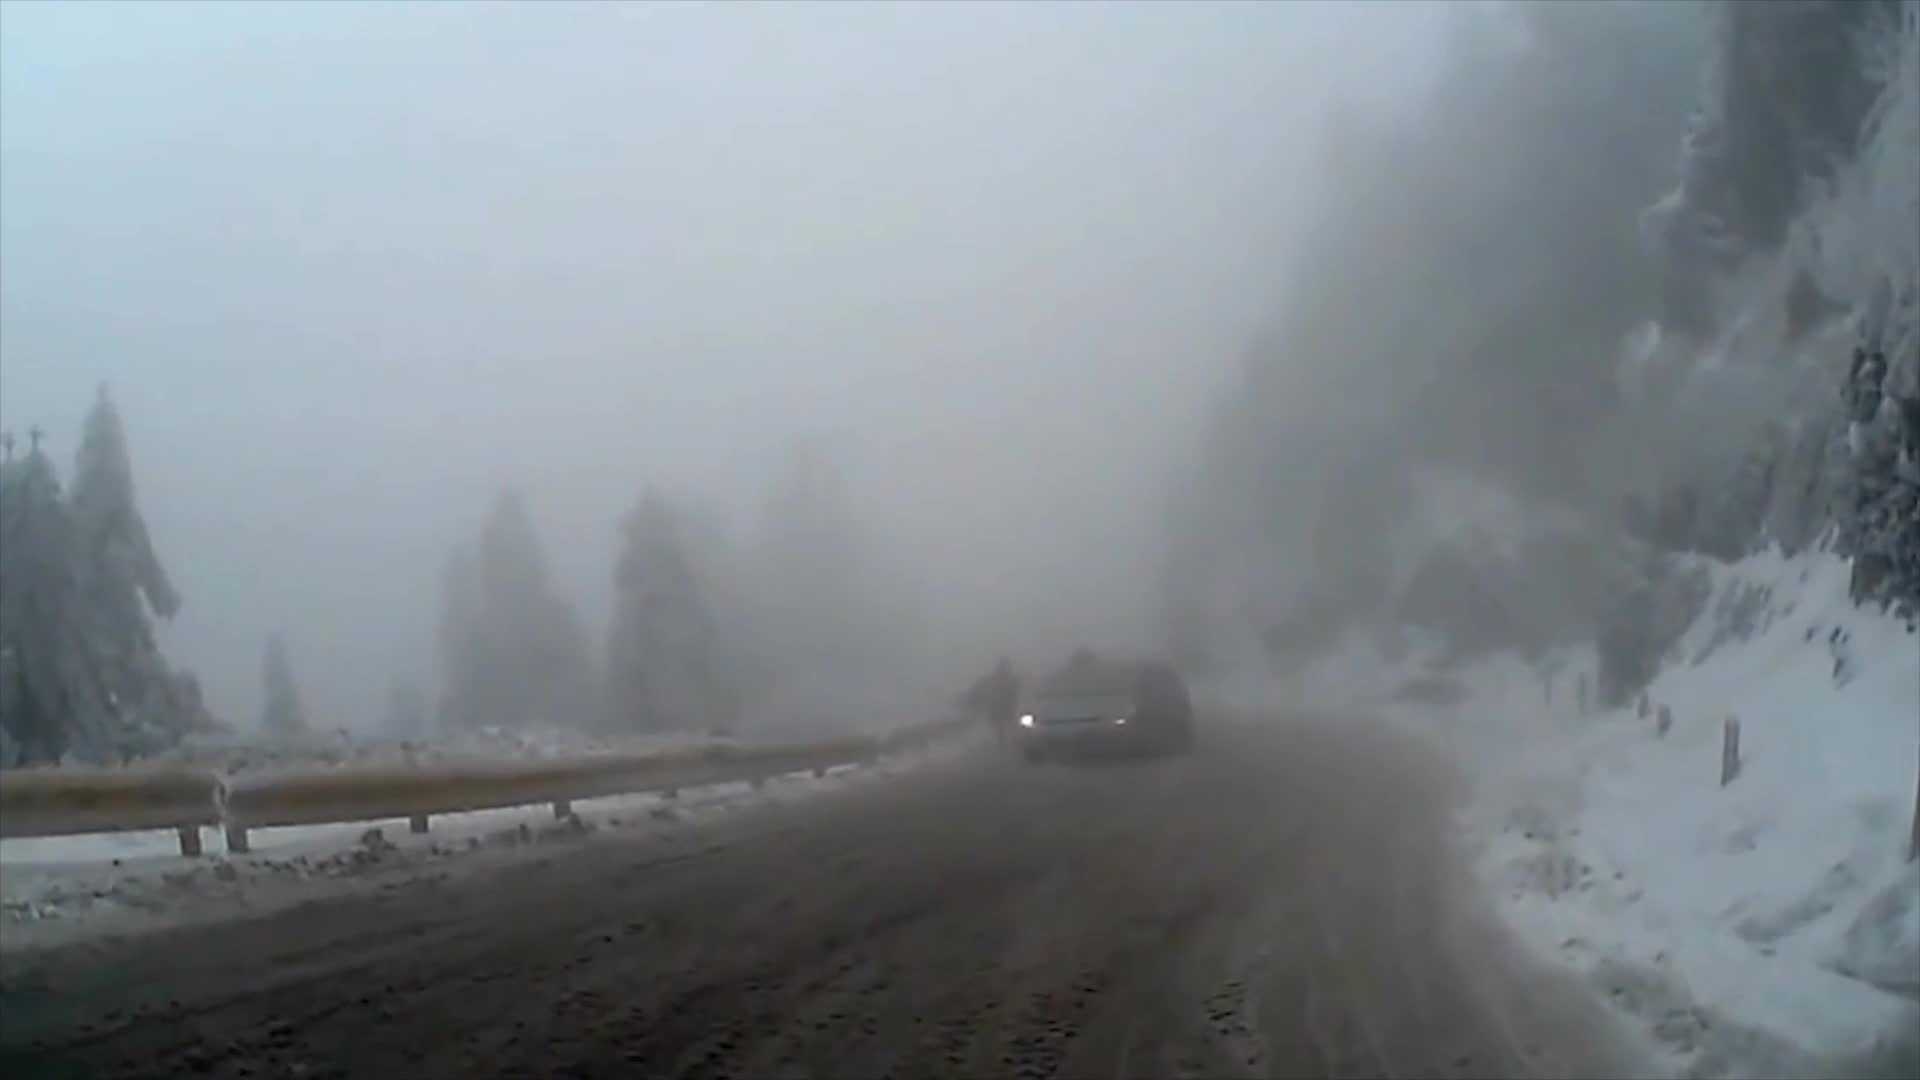vehicle: (1014, 654, 1195, 765)
